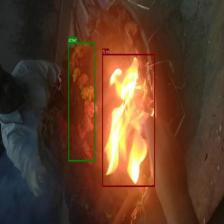fire: (102, 53, 155, 187)
